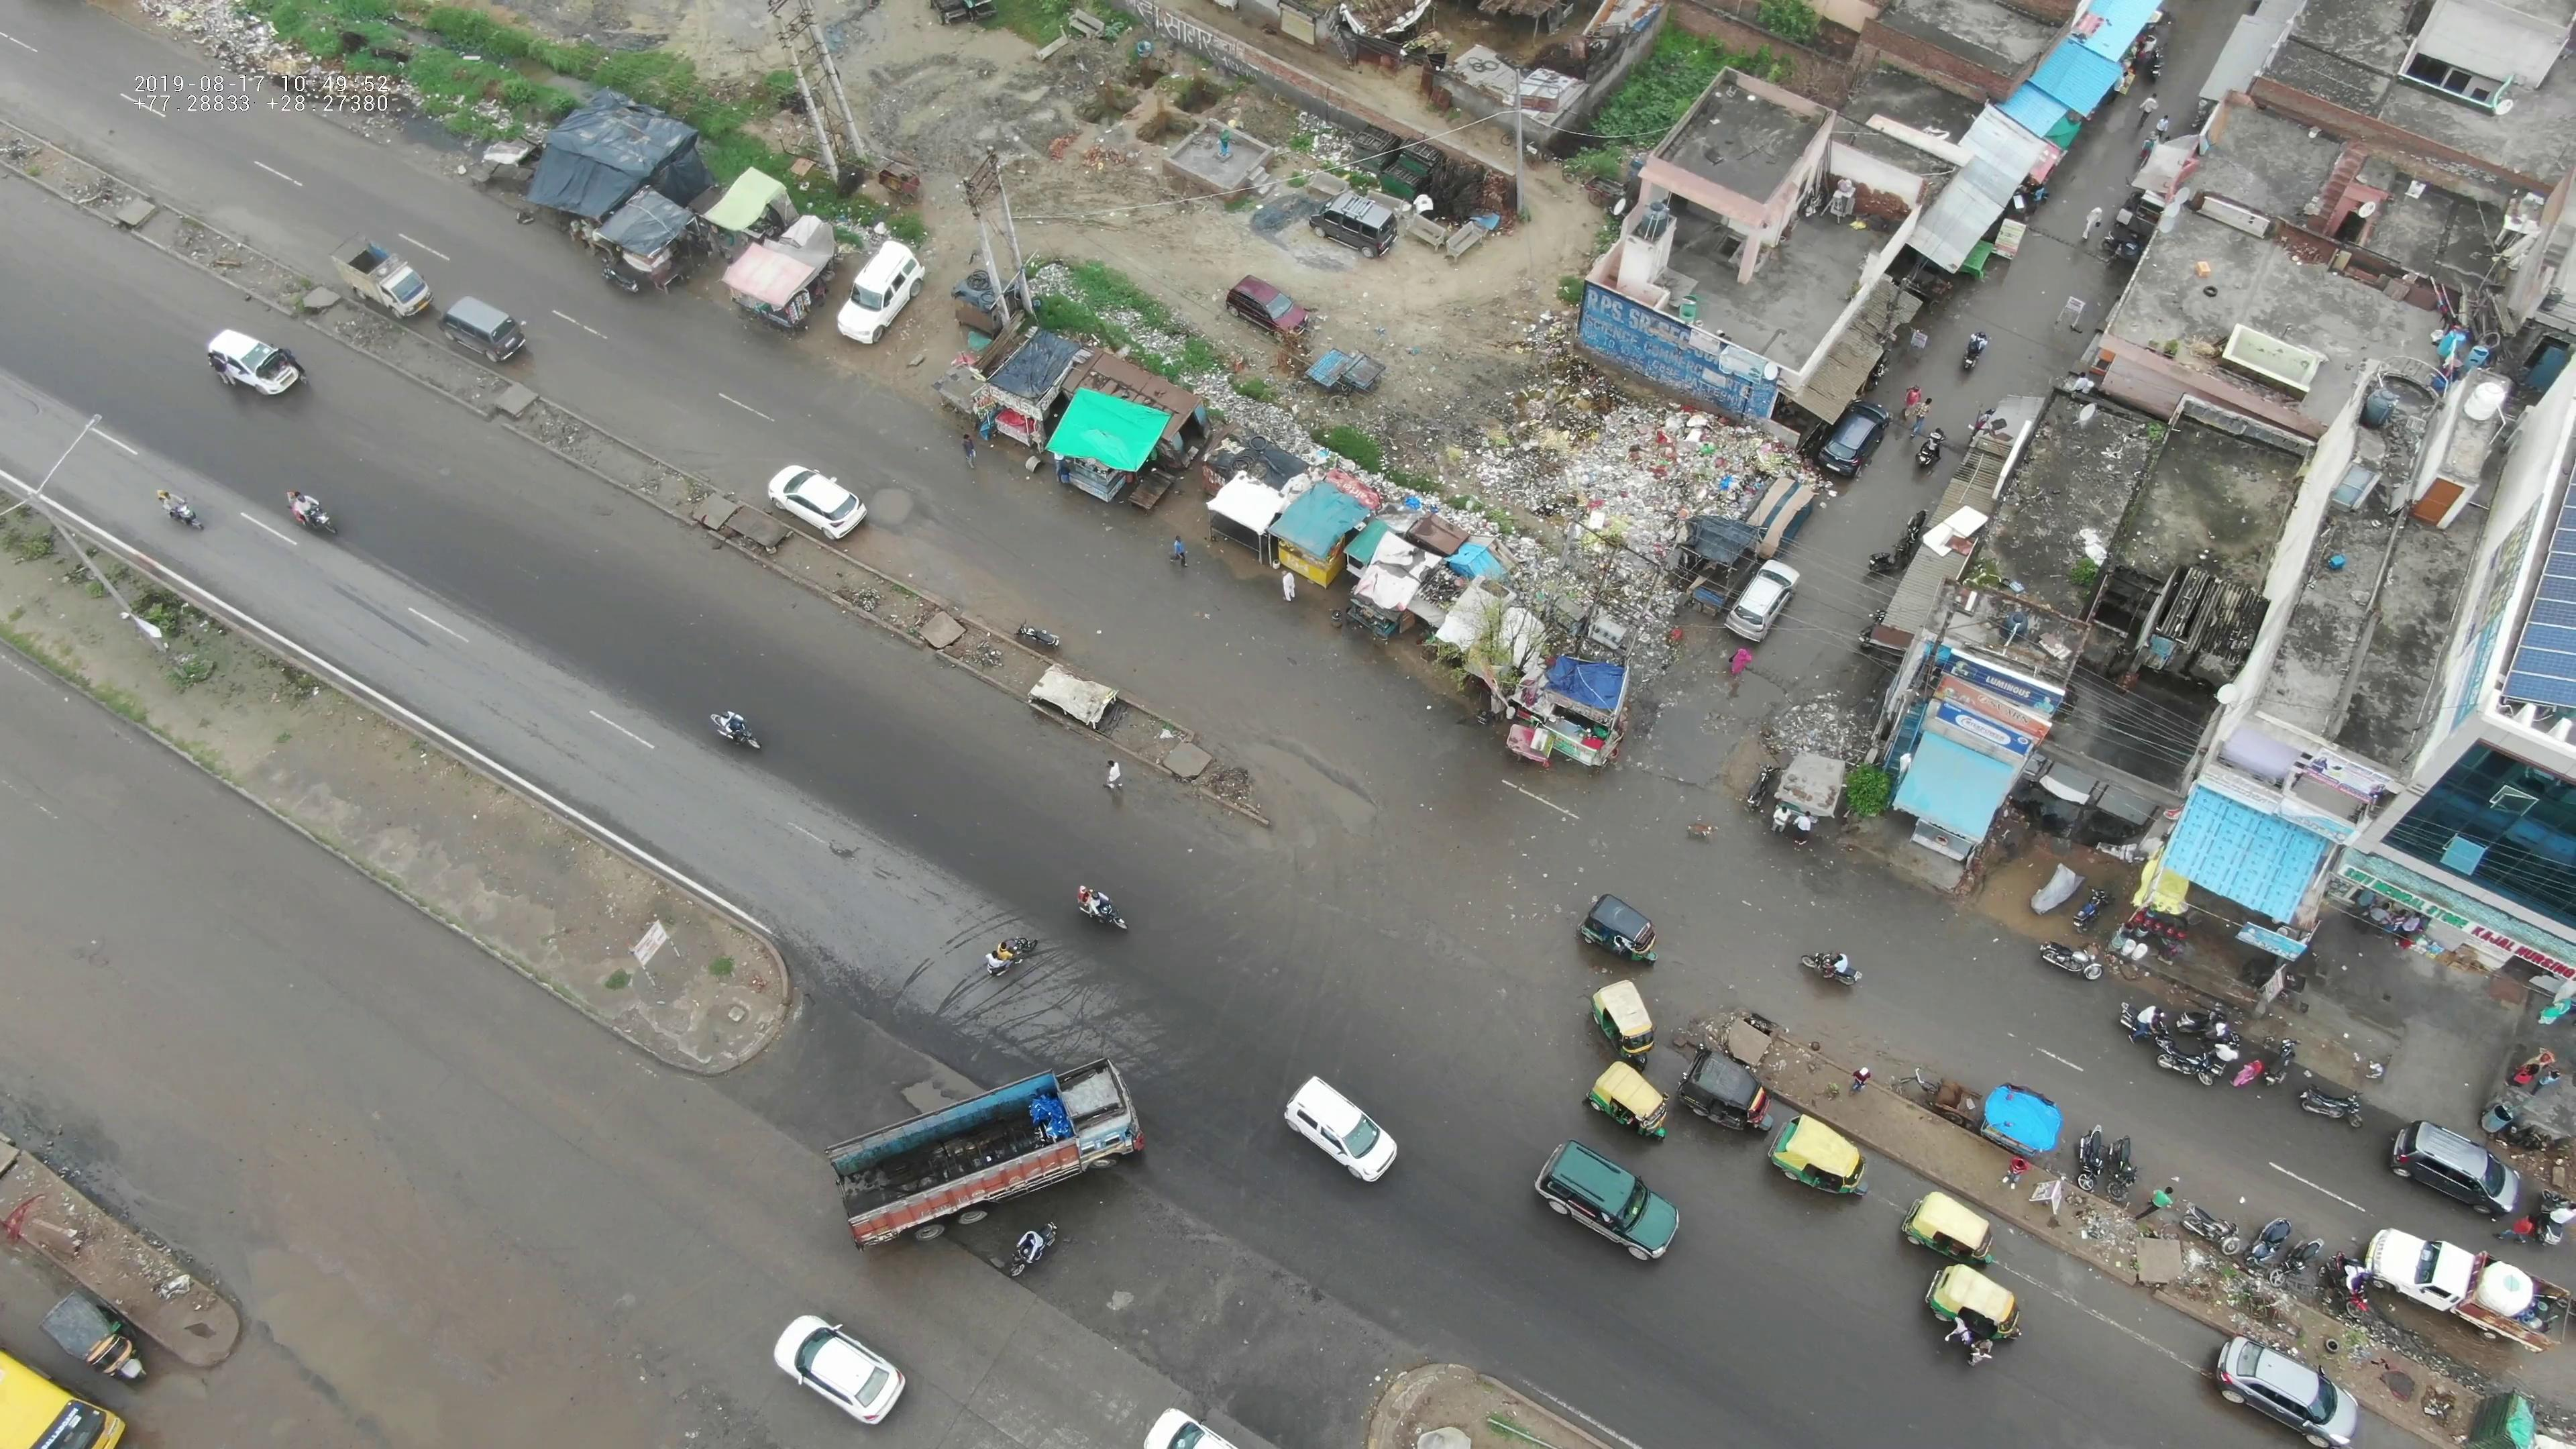Road_side_garbage: (1477, 350, 1773, 536)
